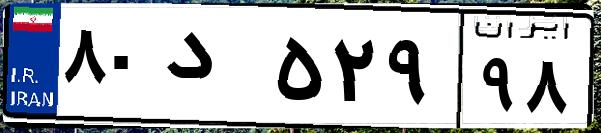0: (110, 28, 158, 98)
2: (330, 28, 385, 110)
5: (270, 28, 330, 110)
8: (57, 26, 110, 100), (525, 38, 570, 115)
9: (385, 28, 445, 110), (475, 38, 525, 113)
د: (158, 20, 270, 120)
